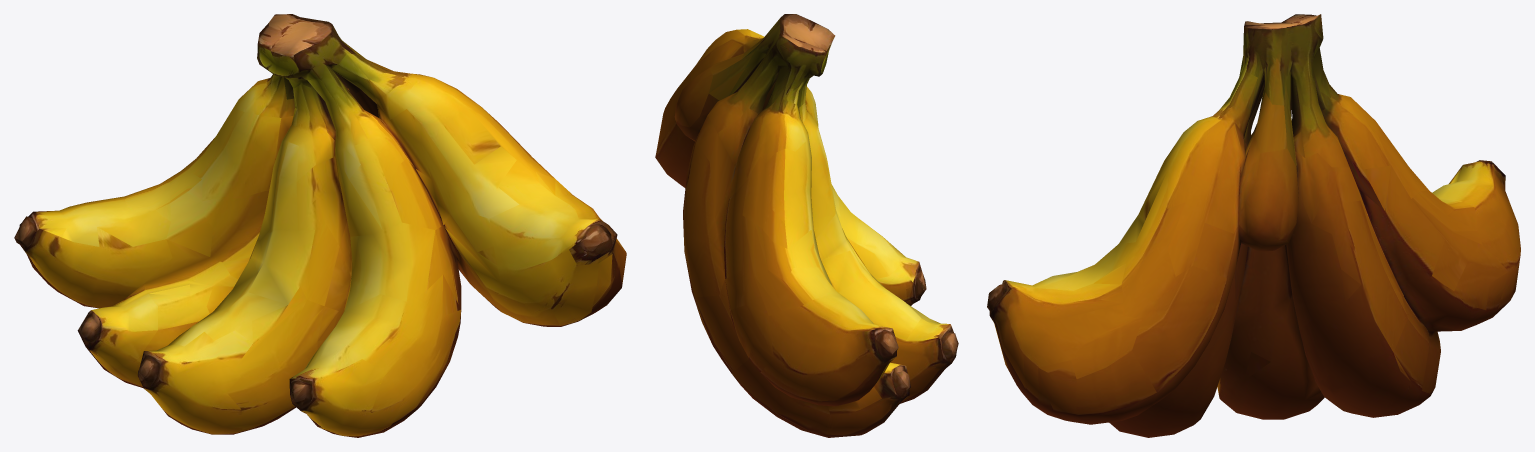
The model's file is bananaD.glb.
The picture shows the model from 3 angles, left to right: view 1: azimuth 30°, elevation 25°; view 2: azimuth 150°, elevation 25°; view 3: azimuth 270°, elevation 25°; orthographic projection. The views are drawn at different scales.
Parts seen in each view (by area): view 1: BananaDMesh; view 2: BananaDMesh; view 3: BananaDMesh.
Part boxes in pixels (box(x1,y1,x2,y2)): BananaDMesh: box(14, 14, 626, 437); BananaDMesh: box(655, 14, 958, 437); BananaDMesh: box(987, 14, 1520, 437).
Bounding box in the file's own units: 0.3536 × 0.3114 × 0.3479.
1 material, 1 textured.
